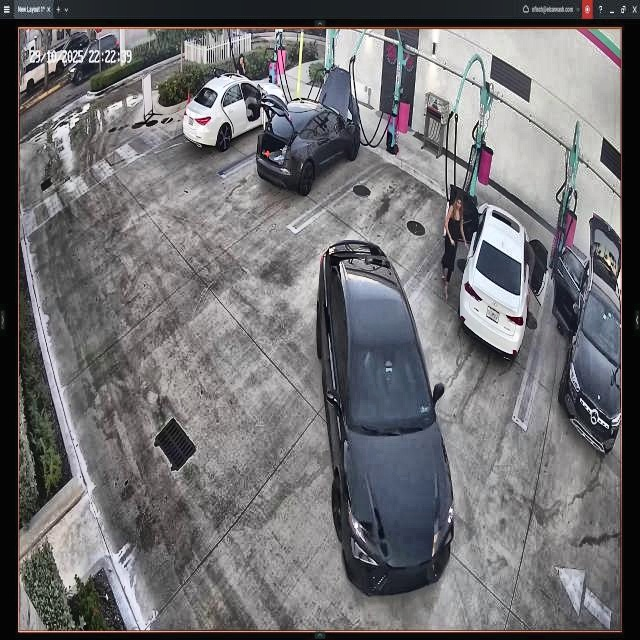Car: (312, 237, 453, 587), (443, 179, 557, 364), (254, 70, 360, 198), (187, 74, 285, 159)
